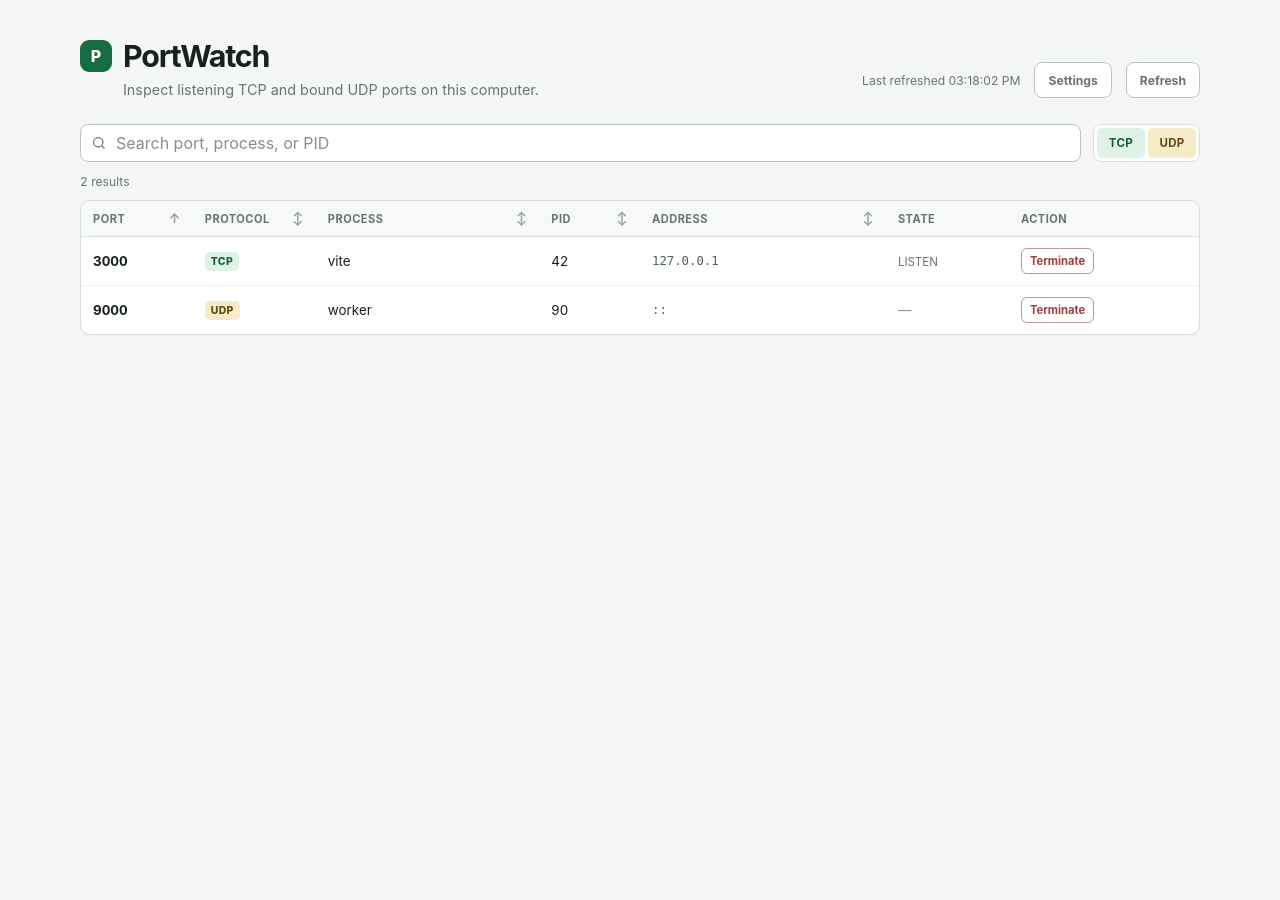
Test: full view › retains results and explains permission failures without leaking details
Check: the text "vite" is shown, box [328, 253, 351, 269]
Click the button with aria-label "Terminate vite on port 3000" at (1058, 261), box [1021, 248, 1094, 274]
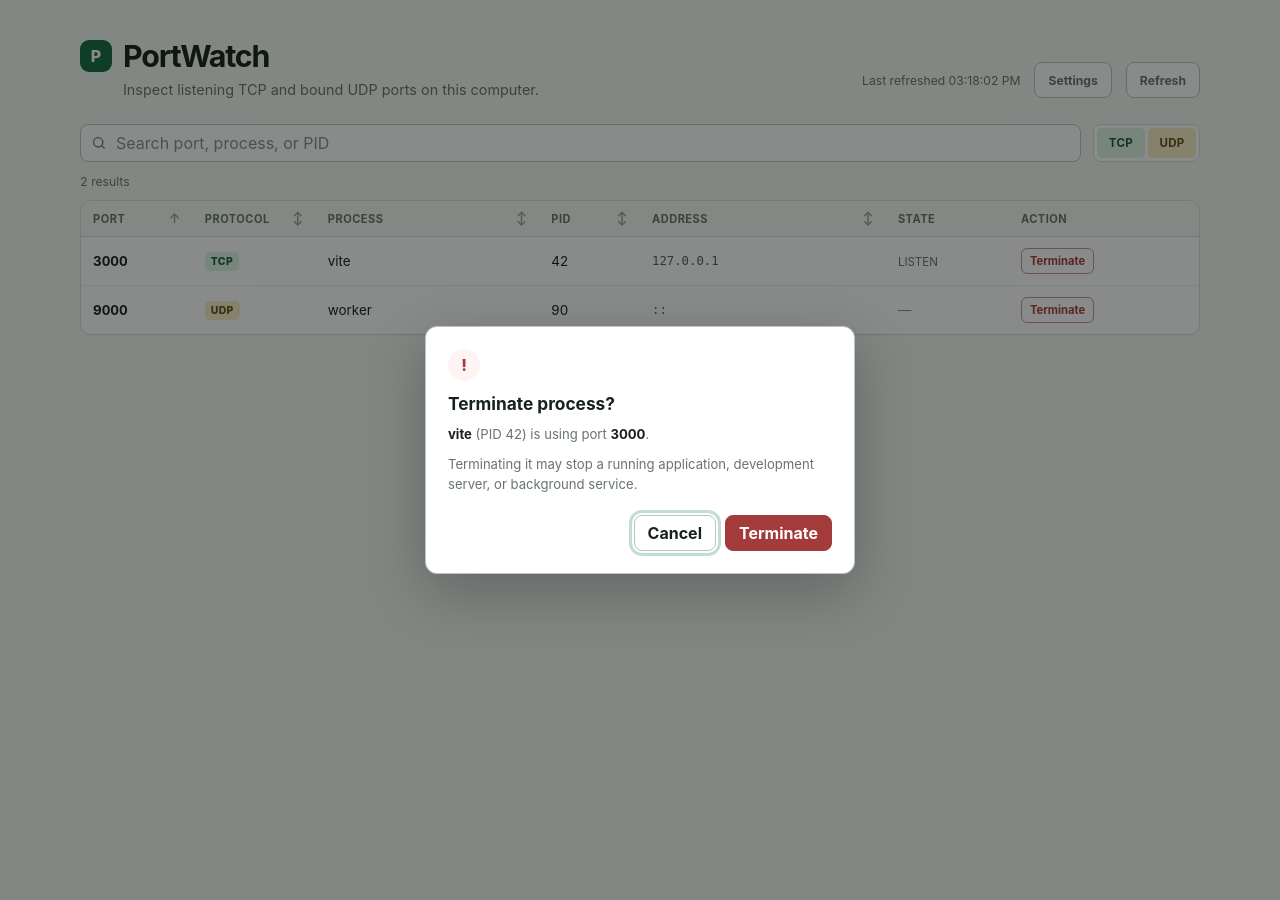
Click the button "Terminate" at (778, 532), box [725, 514, 832, 550]
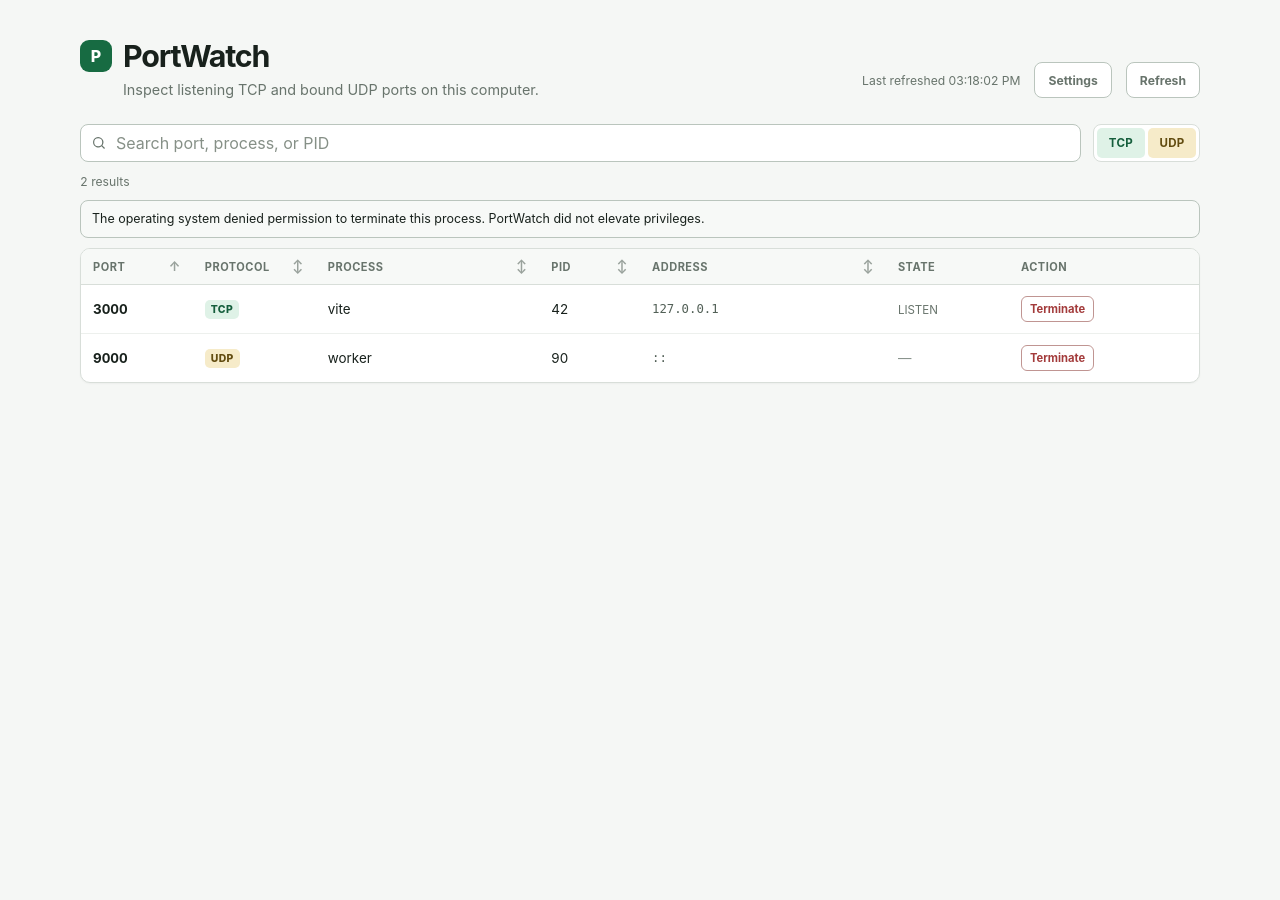
Check: the text "vite" is shown, box [328, 301, 351, 317]
Check: the message shows "denied permission", box [92, 211, 704, 226]
